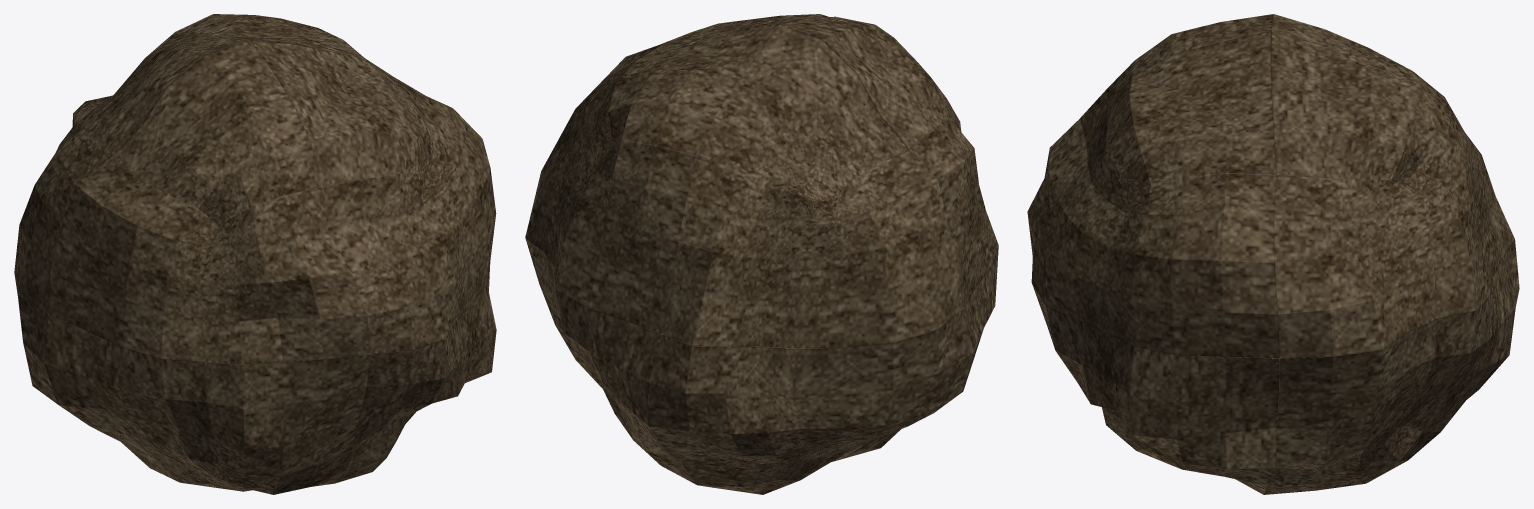
The model's file is SM_EC_Rock_30.fbx.
3 views of the same model, side by side, from view 1: azimuth 30°, elevation 25°; view 2: azimuth 150°, elevation 25°; view 3: azimuth 270°, elevation 25° (orthographic).
Visible parts, largest first — view 1: SM_EC_Rock_30; view 2: SM_EC_Rock_30; view 3: SM_EC_Rock_30.
Boxes of the visible parts, bbox=[...] form: SM_EC_Rock_30: bbox=[14, 14, 496, 494]; SM_EC_Rock_30: bbox=[525, 14, 998, 494]; SM_EC_Rock_30: bbox=[1027, 14, 1519, 494].
Bounding box in the file's own units: 2.05 × 2.09 × 2.07.
